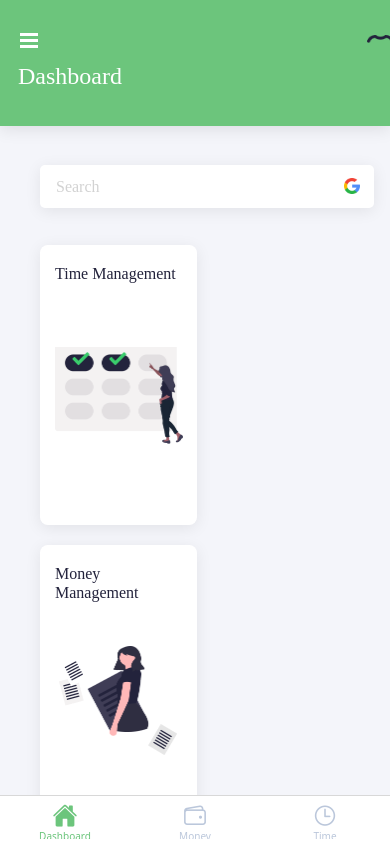
Scenario: App › switches to the Money area when the Money tab is pressed
Click the tab with test id "tab-money": (195, 823) [179,802,211,843]
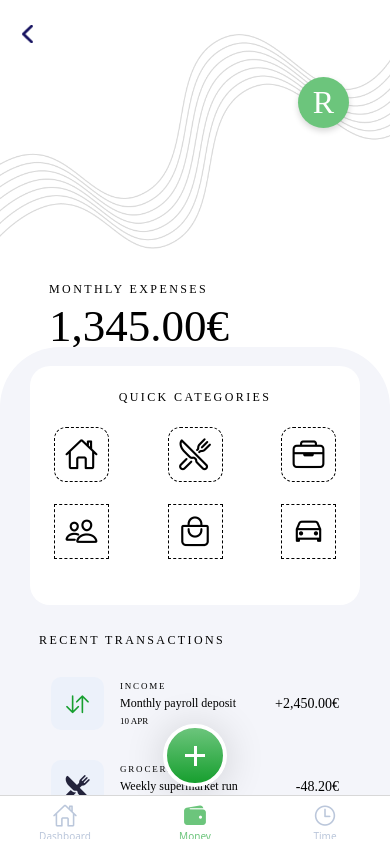
expect the tab with test id "tab-money" is selected: met, box [179,802,211,843]
expect the button with test id "money-add-button" is shown: met, box [163,724,227,787]
